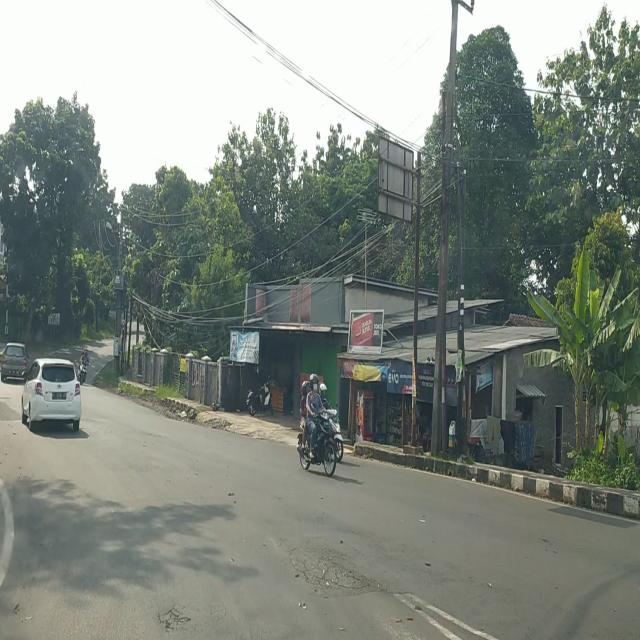Drain Hole: (279, 540, 393, 602), (153, 602, 195, 634)
